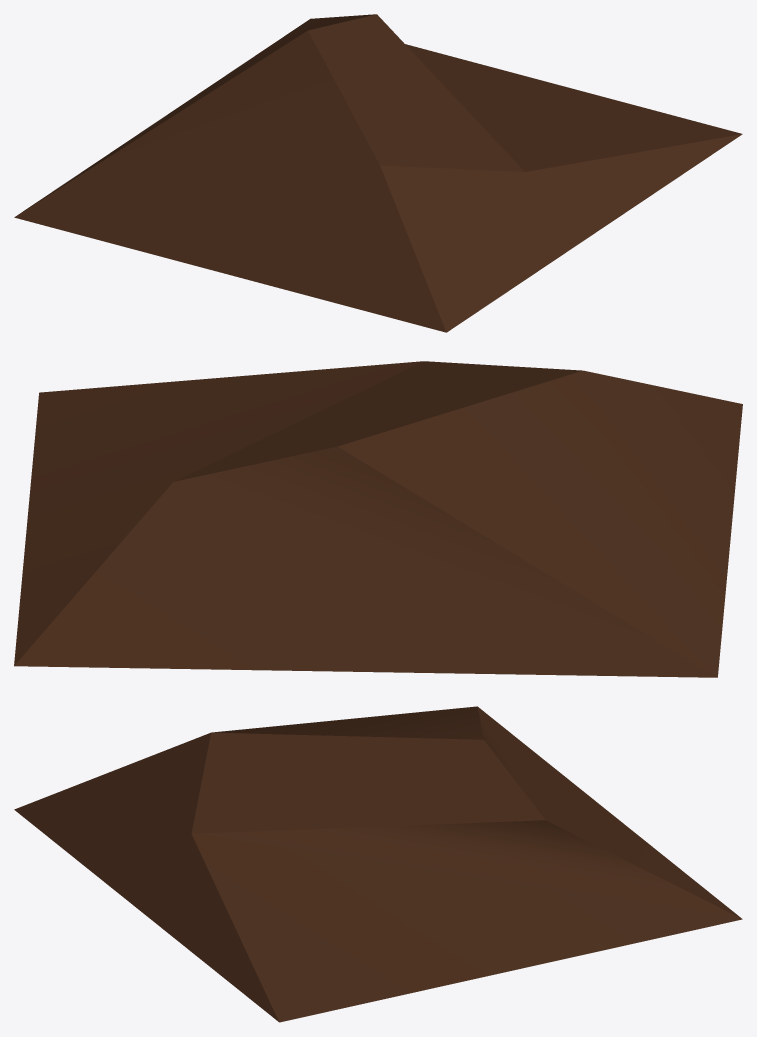
Rendered from ShardBase01.fbx.
3 renders of one model, top to bottom at view 1: azimuth 30°, elevation 25°; view 2: azimuth 150°, elevation 25°; view 3: azimuth 270°, elevation 25°, orthographic. The views are drawn at different scales.
Visible parts, largest first — view 1: polySurface38; view 2: polySurface38; view 3: polySurface38.
Part boxes in pixels (x1,y1,x2,y2): polySurface38: [14, 14, 742, 332]; polySurface38: [14, 361, 742, 677]; polySurface38: [14, 706, 742, 1022].
Bounding box in the file's own units: 11.55 × 1.96 × 11.26.
